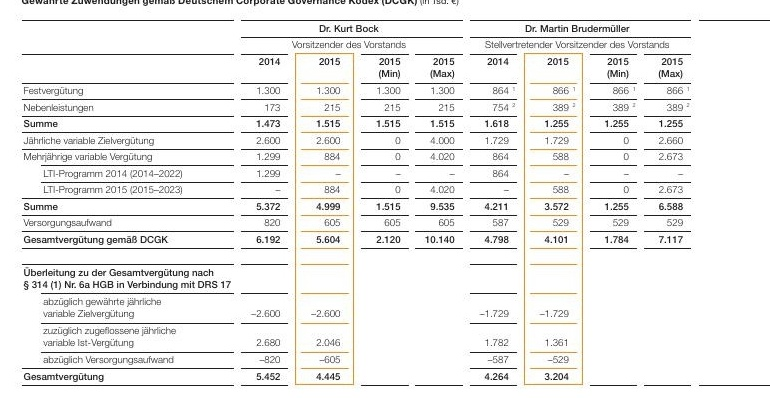table: (0, 0, 770, 398)
